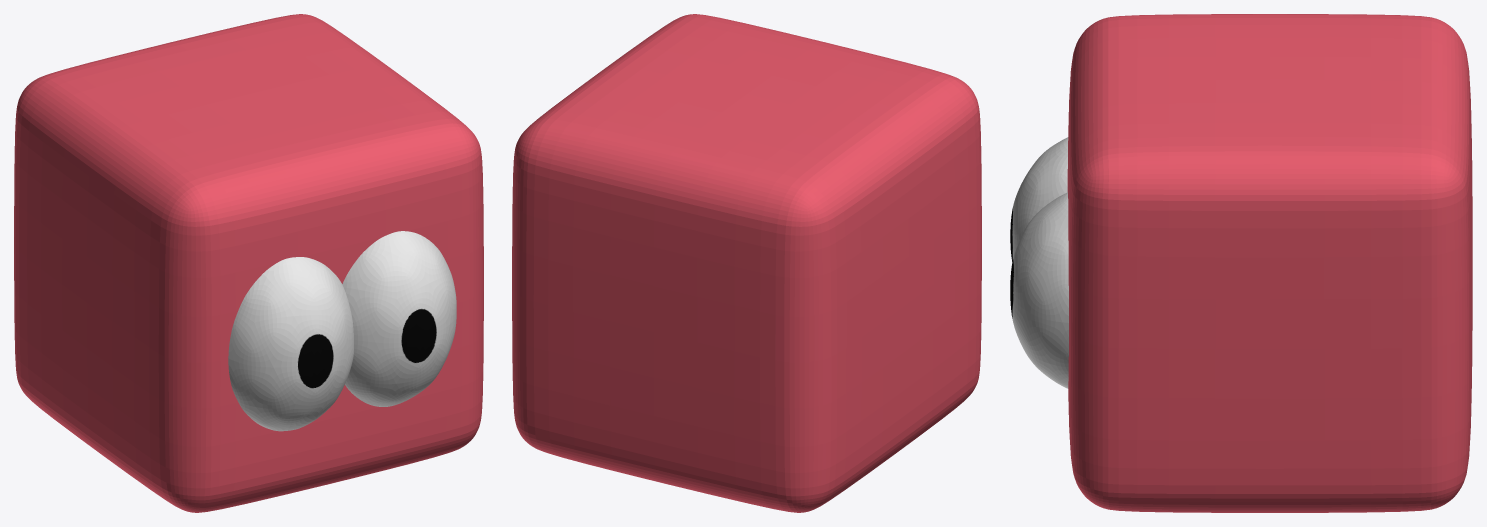
The model's file is -Jelly-.fbx.
3 renders of one model, left to right at view 1: azimuth 30°, elevation 25°; view 2: azimuth 150°, elevation 25°; view 3: azimuth 270°, elevation 25°, orthographic. The views are drawn at different scales.
Parts seen in each view (by area): view 1: Jelly; view 2: Jelly; view 3: Jelly.
Part boxes in pixels (bbox=[...]): Jelly: bbox=[14, 14, 483, 512]; Jelly: bbox=[512, 14, 981, 512]; Jelly: bbox=[1010, 14, 1472, 512].
Size of the model in its own units: 200 by 200 by 228.
